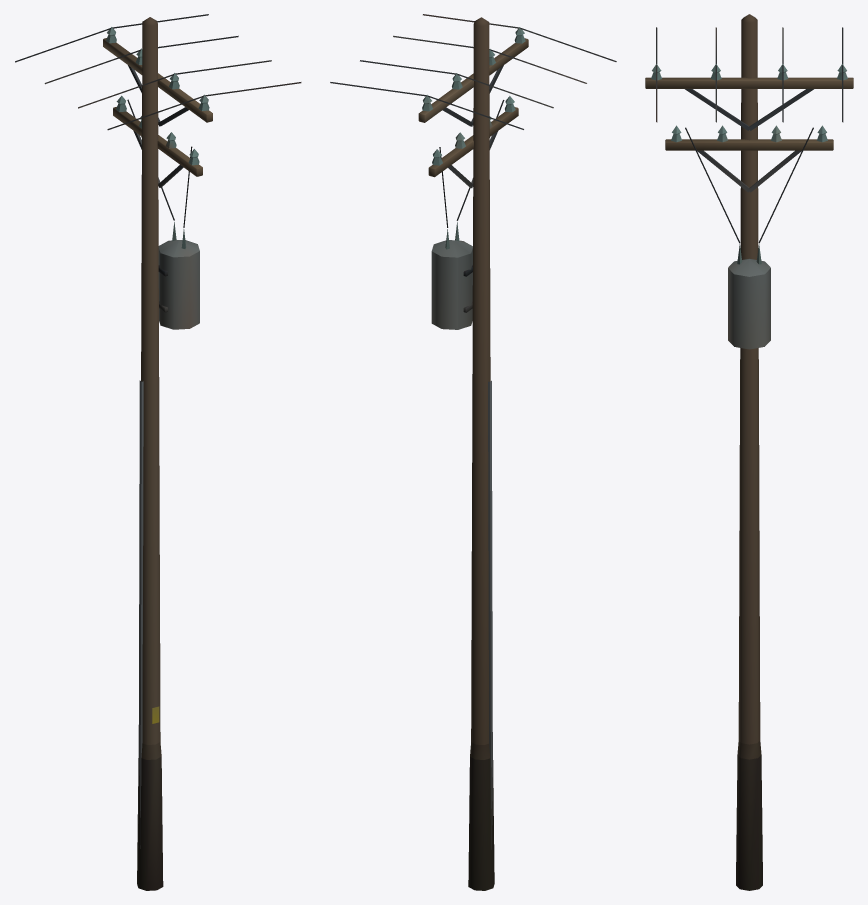
The model's file is power_pole.glb.
3 views of the same model, side by side, from view 1: azimuth 30°, elevation 25°; view 2: azimuth 150°, elevation 25°; view 3: azimuth 270°, elevation 25° (orthographic).
Visible parts, largest first — view 1: PowerPole; view 2: PowerPole; view 3: PowerPole.
Part boxes in pixels (left/top/right/bottom): PowerPole: left=15, top=14, right=301, bottom=890; PowerPole: left=330, top=14, right=616, bottom=890; PowerPole: left=645, top=14, right=853, bottom=890.
Bounding box in the file's own units: 2.8 × 12 × 2.6.
